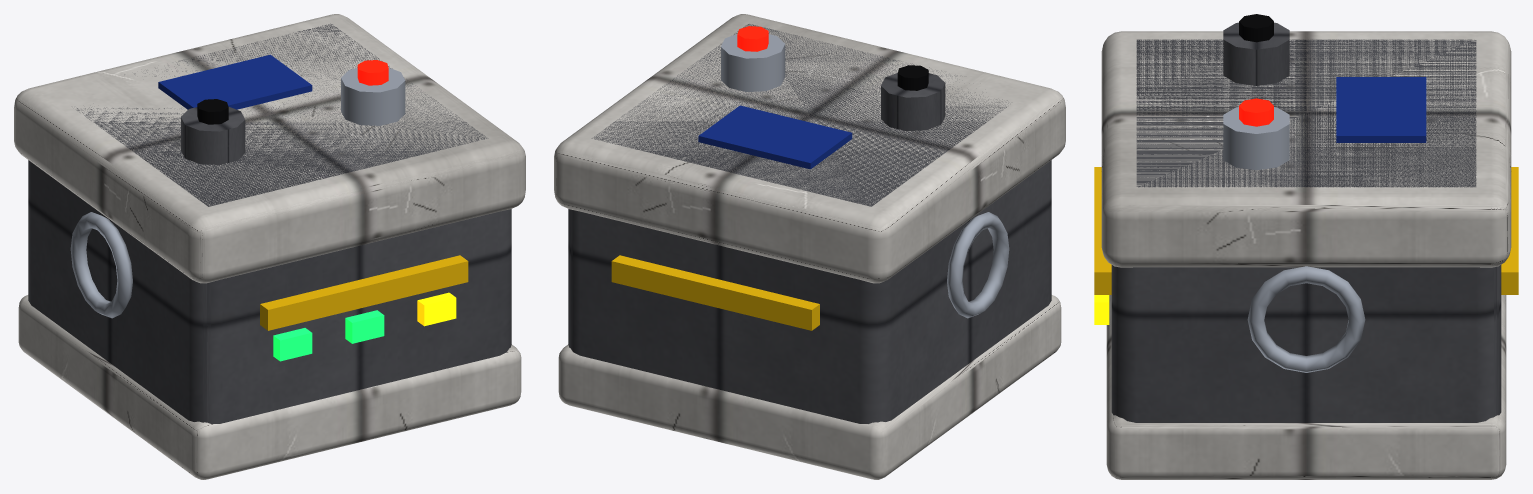
The model's file is PickupCrate.glb.
The picture shows the model from 3 angles, left to right: view 1: azimuth 30°, elevation 25°; view 2: azimuth 150°, elevation 25°; view 3: azimuth 270°, elevation 25°; orthographic projection. The views are drawn at different scales.
Parts seen in each view (by area): view 1: BAT_Pack_Mesh; view 2: BAT_Pack_Mesh; view 3: BAT_Pack_Mesh.
Boxes of the visible parts, <box> form: BAT_Pack_Mesh: <box>14,14,525,479</box>; BAT_Pack_Mesh: <box>554,14,1065,479</box>; BAT_Pack_Mesh: <box>1094,14,1518,479</box>.
Bounding box in the file's own units: 0.8742 × 0.74 × 0.85.
Materials: 9 (2 with a texture image).
